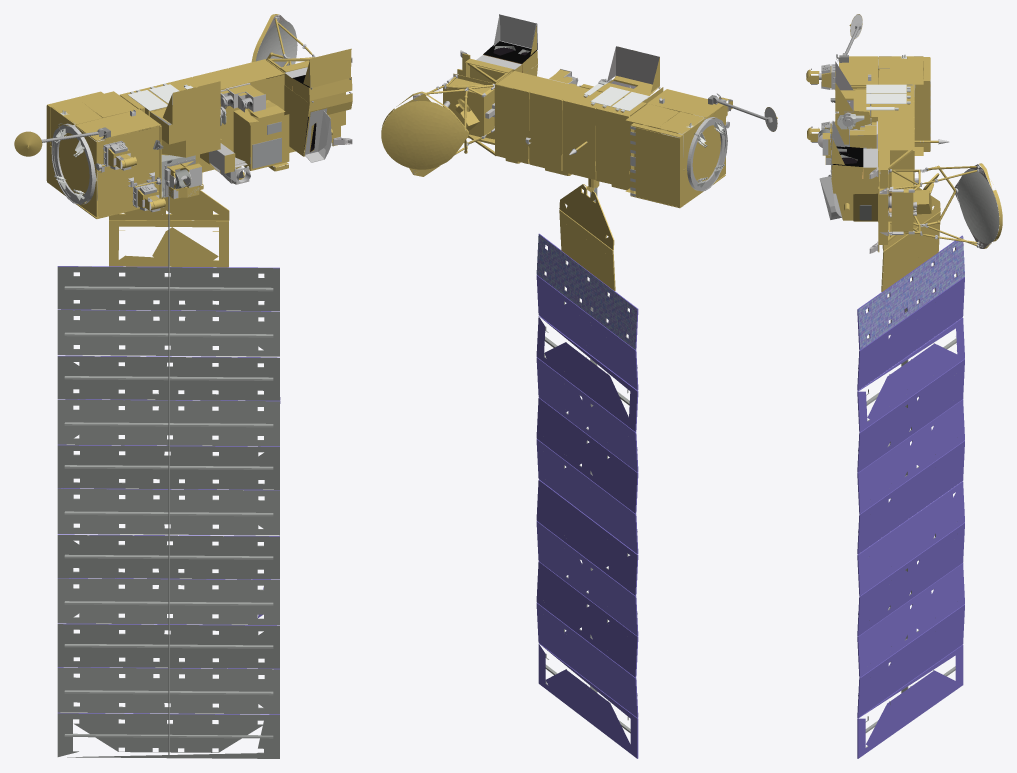
The model's file is aqua.glb.
3 renders of one model, left to right at view 1: azimuth 30°, elevation 25°; view 2: azimuth 150°, elevation 25°; view 3: azimuth 270°, elevation 25°, orthographic. The views are drawn at different scales.
Visible parts, largest first — view 1: Layer_0; view 2: Layer_0; view 3: Layer_0.
Boxes of the visible parts, x1,y1,x2,y2 form: Layer_0: [14, 14, 352, 758]; Layer_0: [381, 14, 777, 758]; Layer_0: [806, 14, 1002, 758].
Size of the model in its own units: 9.43 by 17.78 by 4.9.
2 materials, 2 textured.
